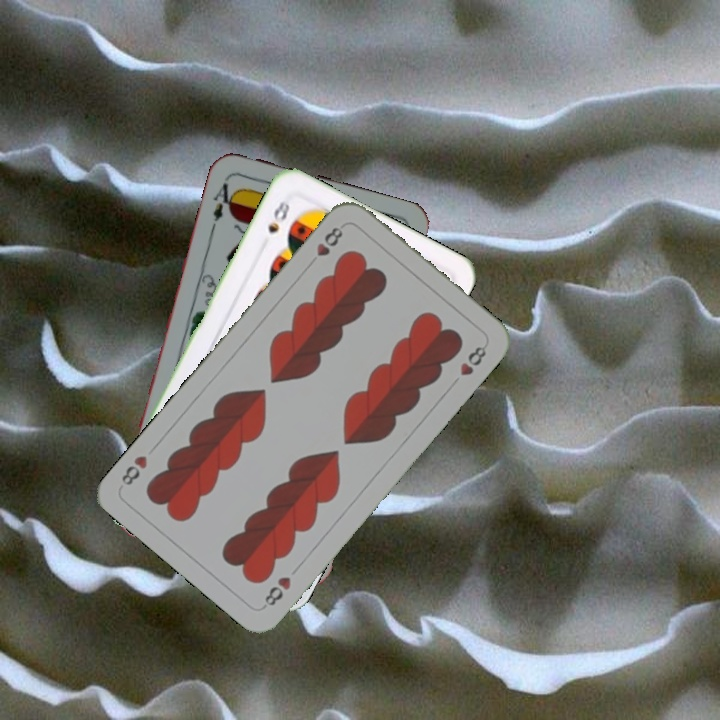EA: (207, 174, 239, 233)
H8: (304, 222, 346, 270), (259, 572, 294, 611)
S8: (263, 196, 293, 236)
